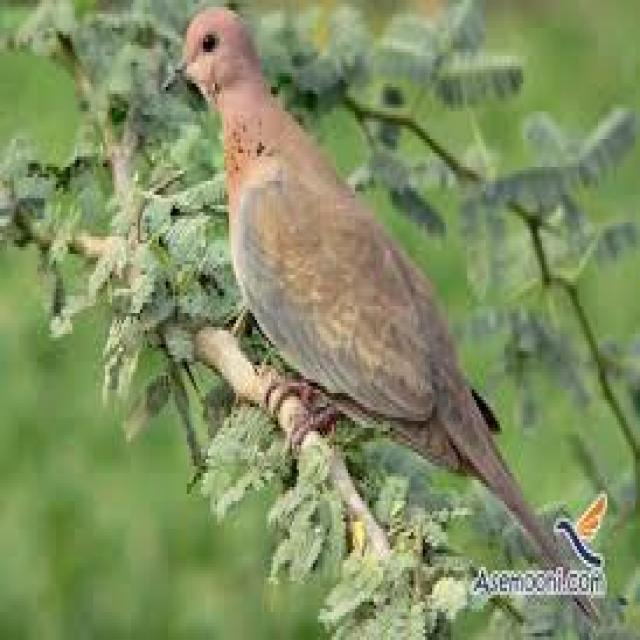bird: (160, 4, 570, 570)
